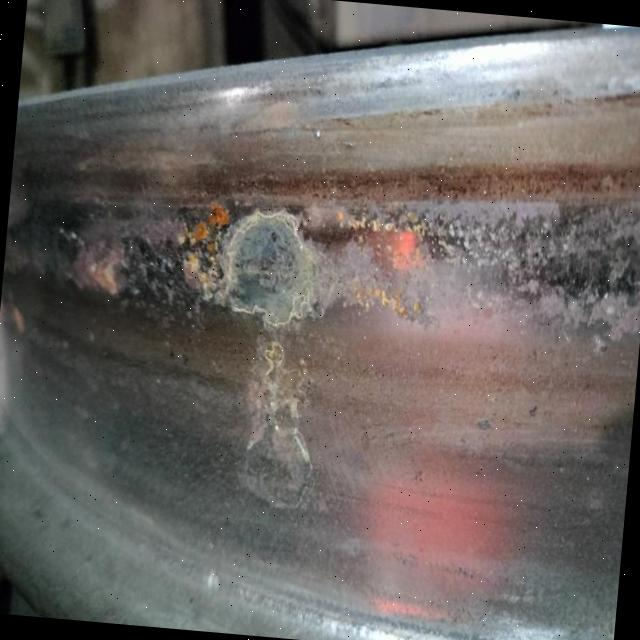Peeling: (245, 338, 316, 470)
Rollerpile: (5, 157, 640, 359)
